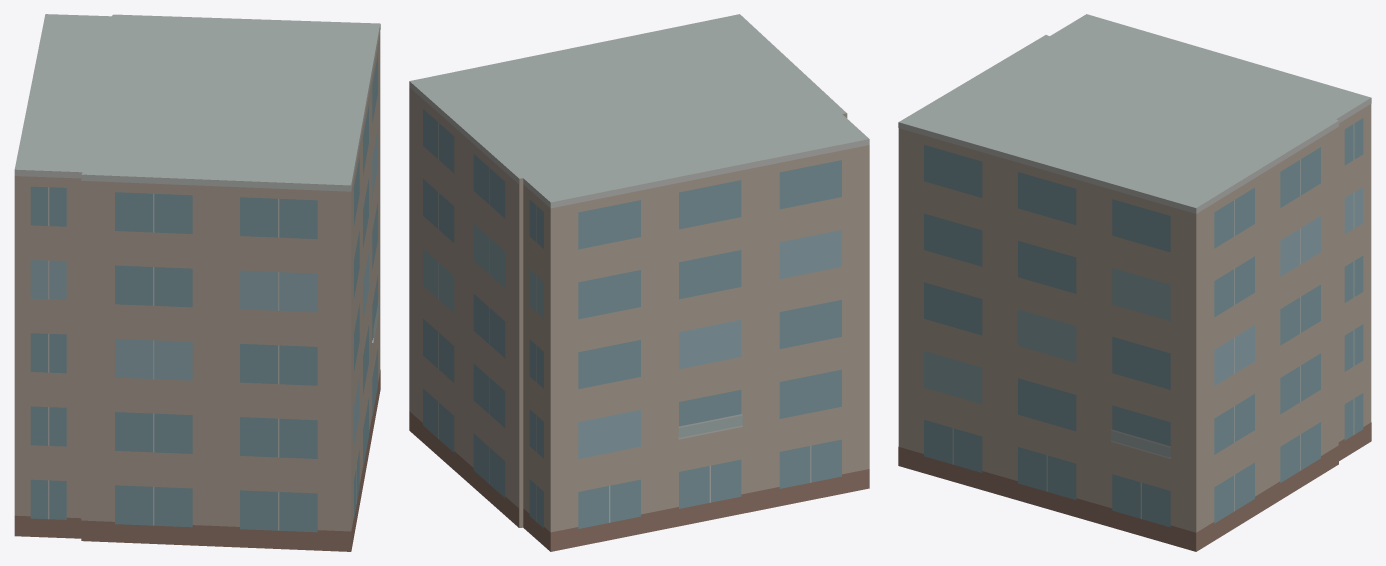
The model's file is survey-upis-32940380.glb.
3 views of the same model, side by side, from view 1: azimuth 30°, elevation 25°; view 2: azimuth 150°, elevation 25°; view 3: azimuth 270°, elevation 25° (orthographic). The views are drawn at different scales.
Visible parts, largest first — view 1: survey-upis-32940380.tmp; view 2: survey-upis-32940380.tmp; view 3: survey-upis-32940380.tmp.
Boxes of the visible parts, bbox=[...] form: survey-upis-32940380.tmp: bbox=[14, 14, 380, 551]; survey-upis-32940380.tmp: bbox=[409, 14, 869, 551]; survey-upis-32940380.tmp: bbox=[898, 14, 1371, 551].
Bounding box in the file's own units: 17.33 × 14.3 × 17.84.
